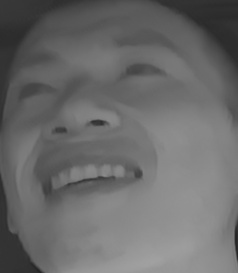eye: (116, 54, 169, 86), (11, 79, 63, 105)
mouth: (37, 148, 144, 207)
